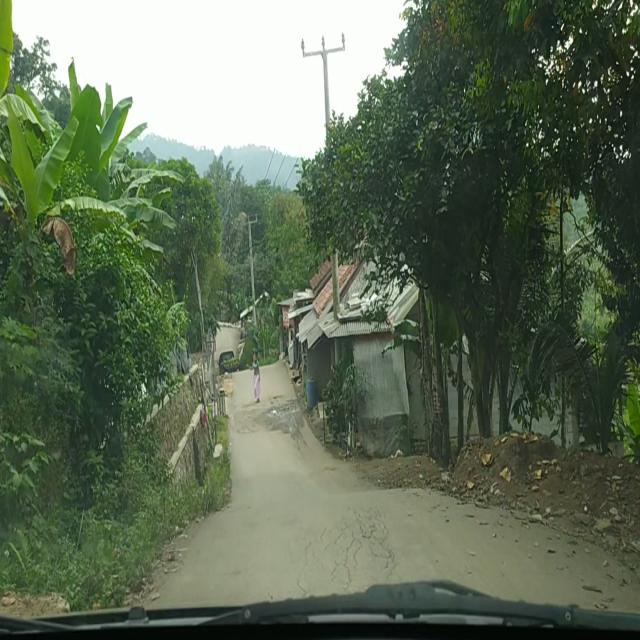Drain Hole: (298, 507, 399, 581)
